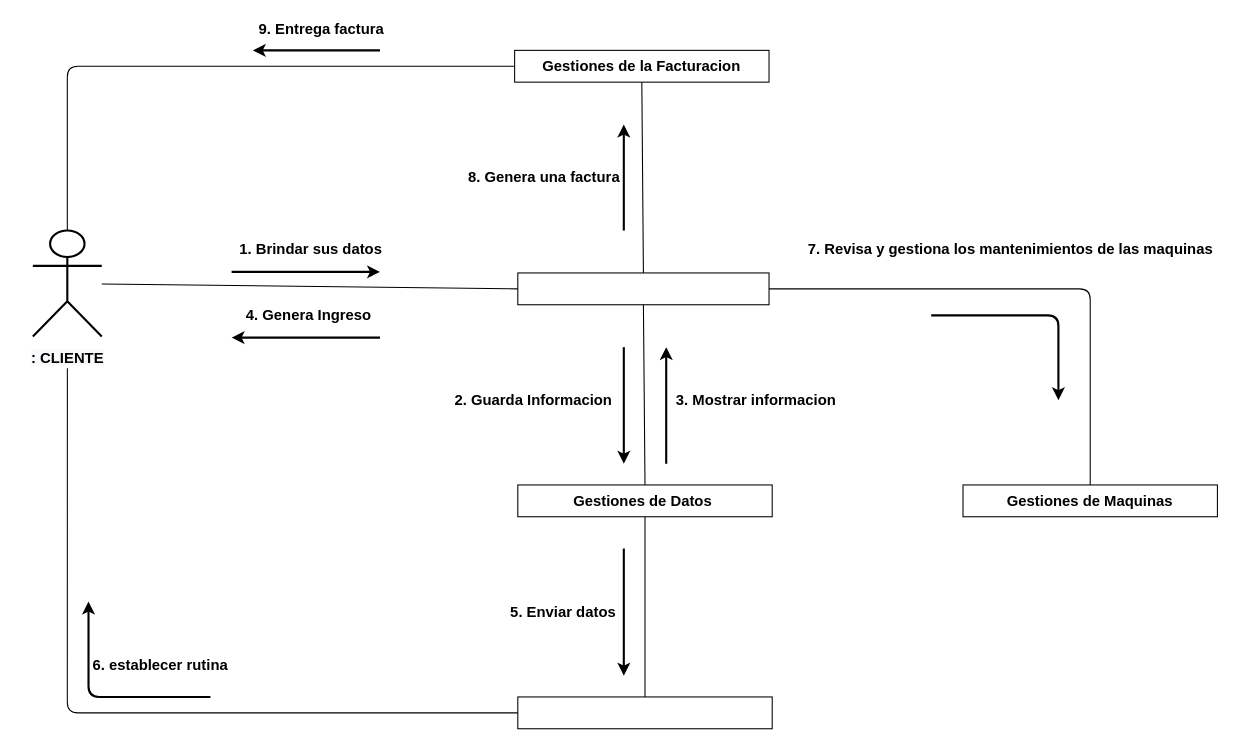
The diagram is 1257 pixels wide and 747 high, and some of its shapes have lost their labels. Each missing label, with the box of its shape:
Gestiones de Entrenamiento: (517, 696, 772, 729)
Gestiones de secretaria: (517, 272, 769, 305)
